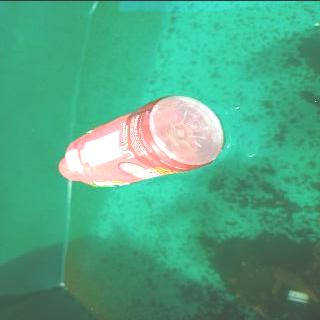bottle: (58, 94, 226, 186)
